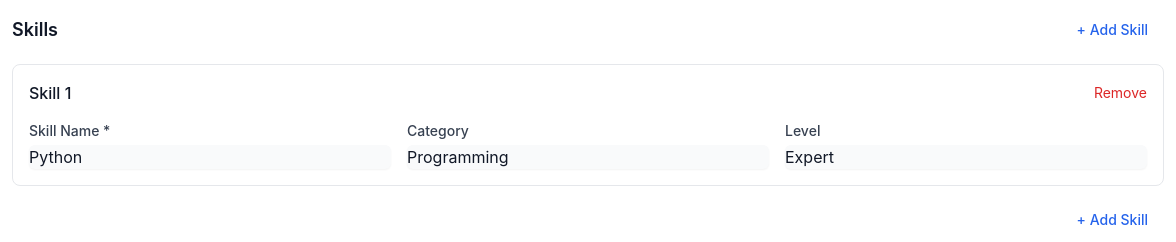
Skills › removes skill entry
Click the button "Remove" at (1120, 93), box [1094,83,1147,103]
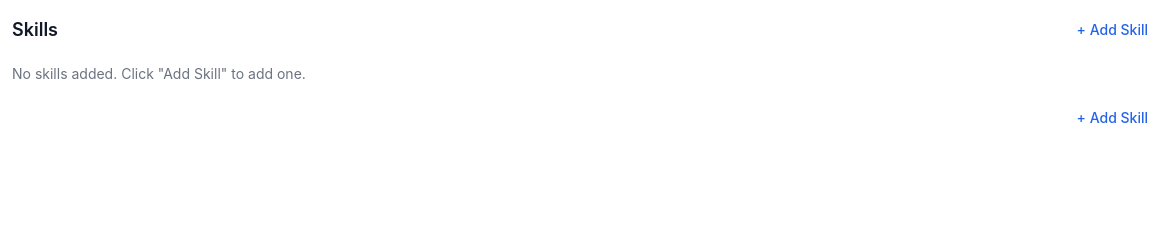
Expected: the text "No skills added. Click \"Add Skill\" to add one." is shown, [12,65,306,82]
